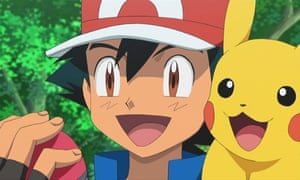pikachu: (197, 3, 300, 178)
